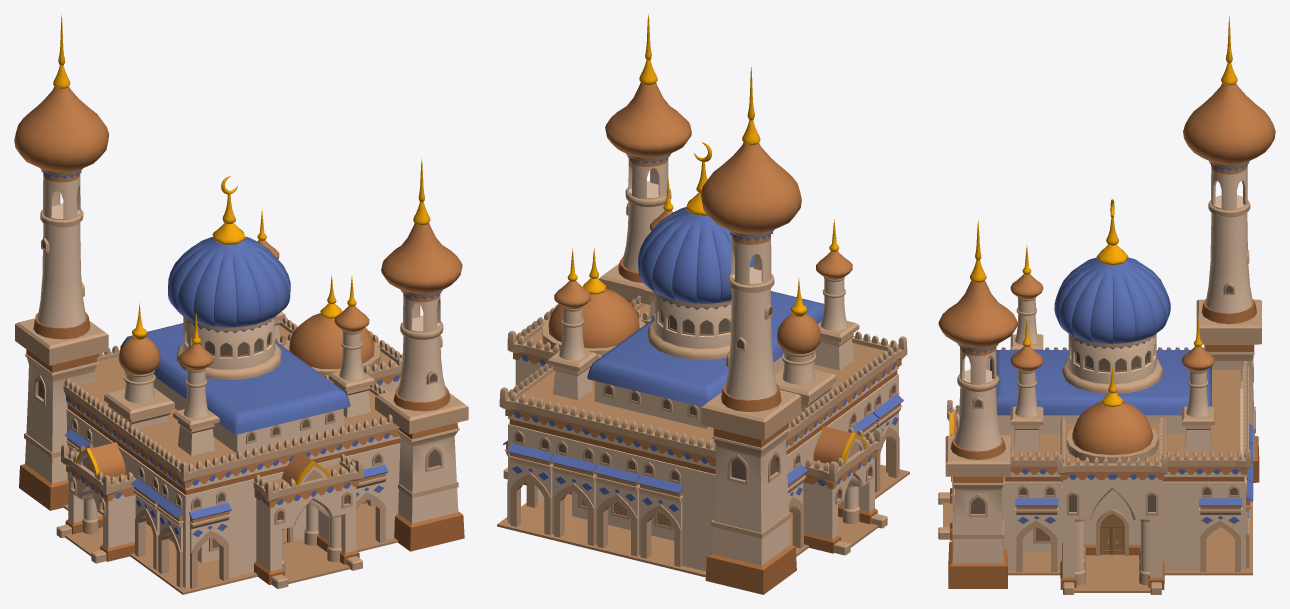
Rendered from SM_Buildings_Mosque_01.fbx.
The picture shows the model from 3 angles, left to right: view 1: azimuth 30°, elevation 25°; view 2: azimuth 150°, elevation 25°; view 3: azimuth 270°, elevation 25°; orthographic projection. The views are drawn at different scales.
Visible parts, largest first — view 1: SM_Buildings_Mosque_01; view 2: SM_Buildings_Mosque_01; view 3: SM_Buildings_Mosque_01.
Part boxes in pixels (<box>): SM_Buildings_Mosque_01: <box>14,15,468,594</box>; SM_Buildings_Mosque_01: <box>497,14,909,594</box>; SM_Buildings_Mosque_01: <box>938,16,1275,594</box>.
Size of the model in its own units: 29.72 by 43.11 by 28.9.
